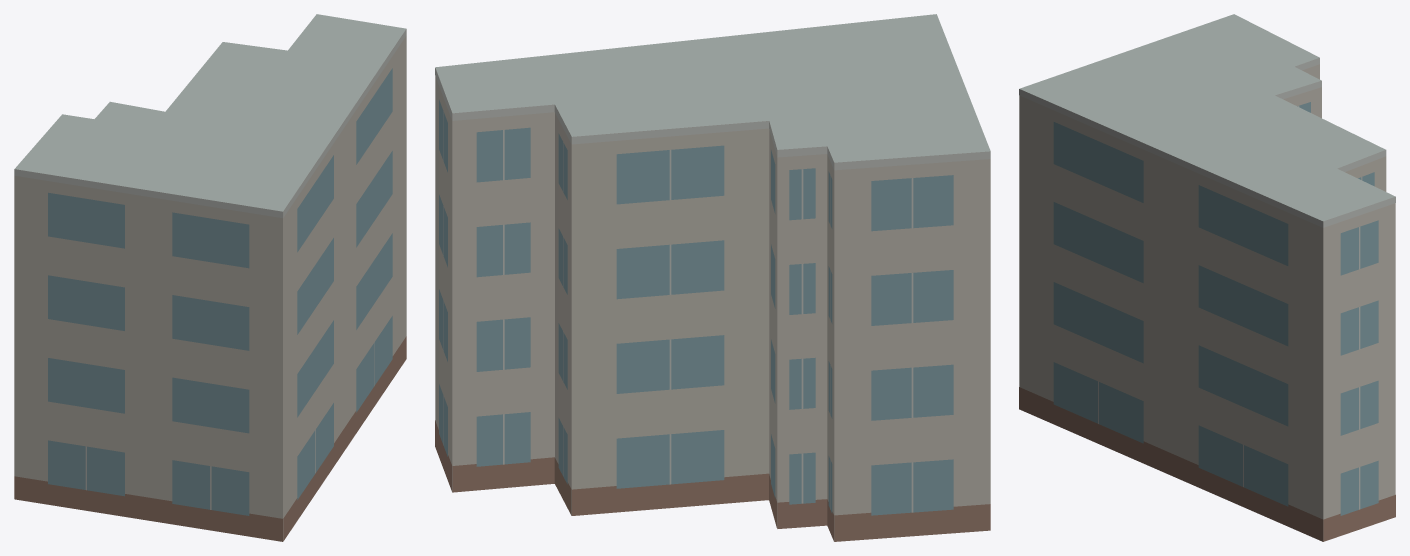
Rendered from survey-upis-32563776.glb.
The picture shows the model from 3 angles, left to right: view 1: azimuth 30°, elevation 25°; view 2: azimuth 150°, elevation 25°; view 3: azimuth 270°, elevation 25°; orthographic projection. The views are drawn at different scales.
Parts seen in each view (by area): view 1: survey-upis-32563776.tmp; view 2: survey-upis-32563776.tmp; view 3: survey-upis-32563776.tmp.
Boxes of the visible parts, box(x1,y1,x2,y2) form: survey-upis-32563776.tmp: box(14, 14, 406, 541); survey-upis-32563776.tmp: box(435, 14, 990, 541); survey-upis-32563776.tmp: box(1019, 14, 1395, 541).
Bounding box in the file's own units: 16.81 × 12.1 × 12.9.
